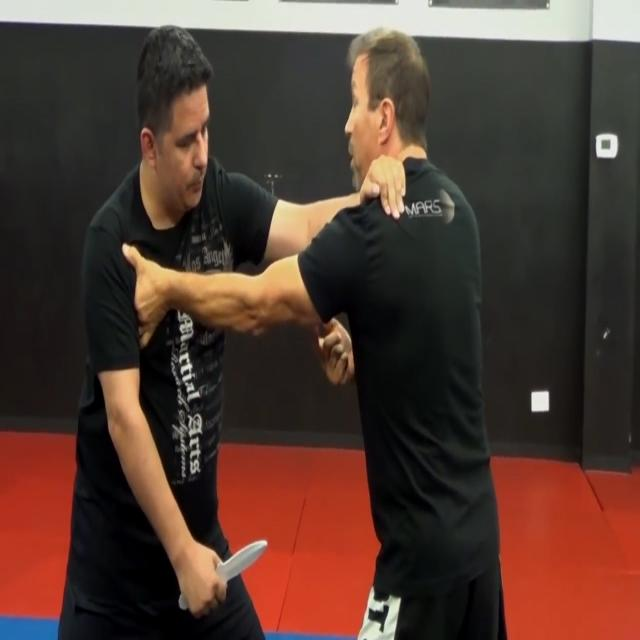knife: (214, 536, 272, 584)
